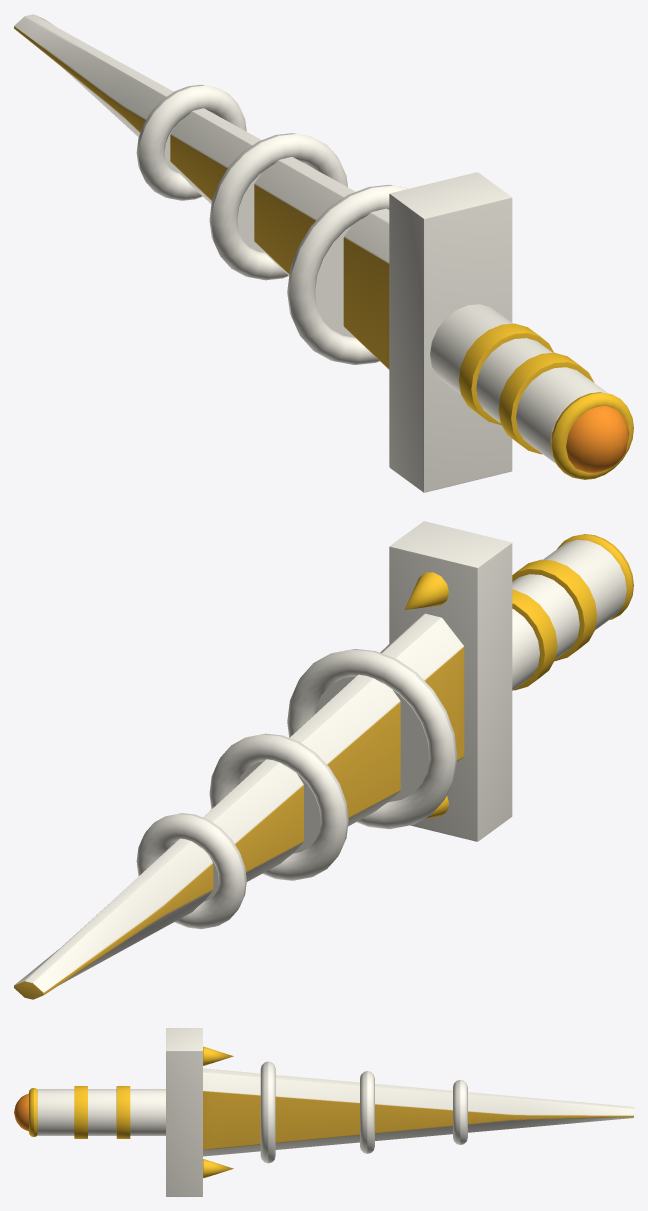
The model's file is Sword_SunspireClaymore.glb.
3 views of the same model, one above another, from view 1: azimuth 30°, elevation 25°; view 2: azimuth 150°, elevation 25°; view 3: azimuth 270°, elevation 25° (orthographic). The views are drawn at different scales.
Parts seen in each view (by area): view 1: Sword_SunspireClaymore; view 2: Sword_SunspireClaymore; view 3: Sword_SunspireClaymore.
Part boxes in pixels (x1,y1,x2,y2): Sword_SunspireClaymore: [14, 14, 633, 492]; Sword_SunspireClaymore: [14, 521, 633, 999]; Sword_SunspireClaymore: [14, 1028, 633, 1196].
Bounding box in the file's own units: 0.165 × 0.26 × 1.
1 material, 1 textured.
